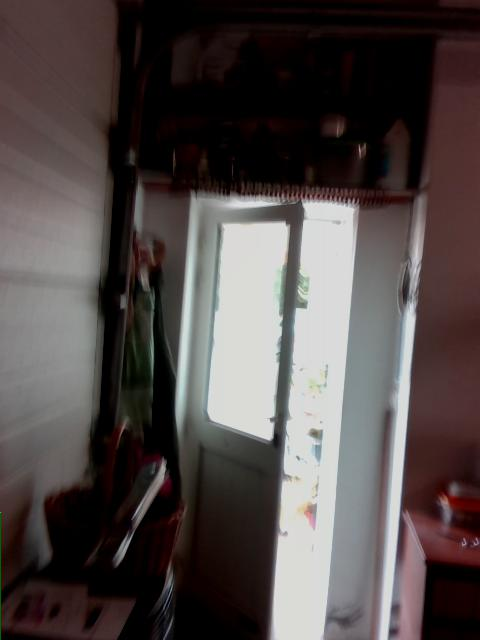semi_door: (173, 186, 361, 639)
